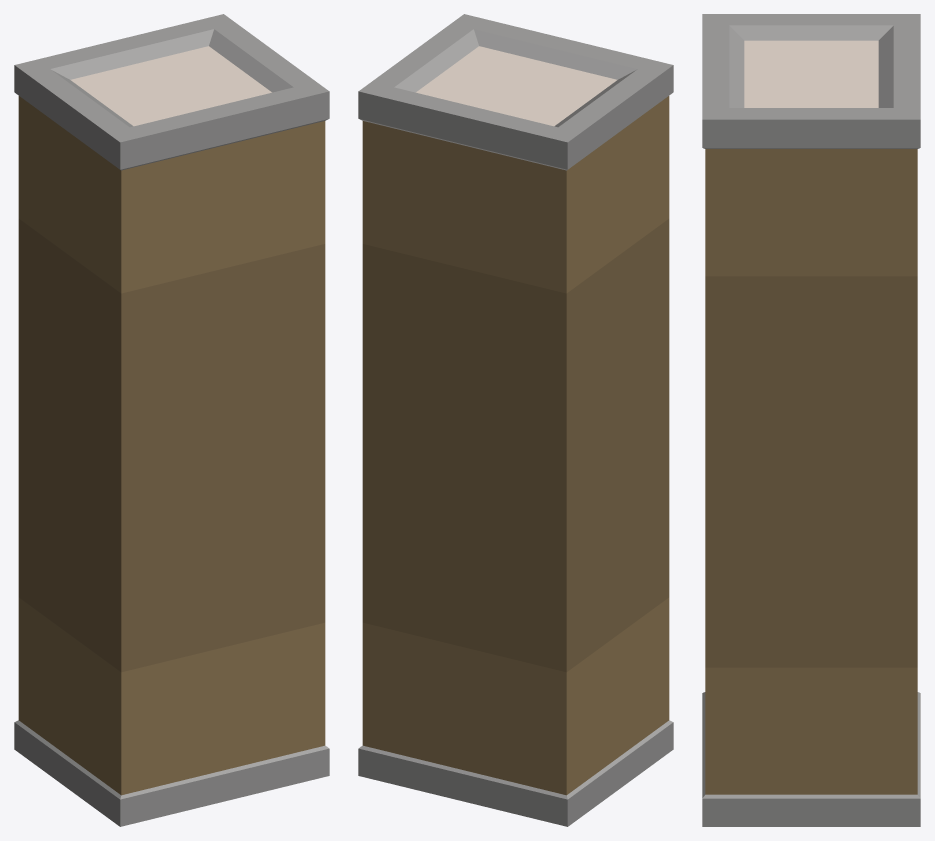
File: SM_Props_Interior_Shop_Light_WallLight_02.fbx
3 views of the same model, side by side, from view 1: azimuth 30°, elevation 25°; view 2: azimuth 150°, elevation 25°; view 3: azimuth 270°, elevation 25° (orthographic). The views are drawn at different scales.
Visible parts, largest first — view 1: SM_Props_Interior_Shop_Light_WallLight_02; view 2: SM_Props_Interior_Shop_Light_WallLight_02; view 3: SM_Props_Interior_Shop_Light_WallLight_02.
Part boxes in pixels (x1,y1,x2,y2): SM_Props_Interior_Shop_Light_WallLight_02: (14, 14, 329, 826); SM_Props_Interior_Shop_Light_WallLight_02: (358, 14, 673, 826); SM_Props_Interior_Shop_Light_WallLight_02: (702, 14, 920, 826).
Size of the model in its own units: 16 by 50 by 14.
